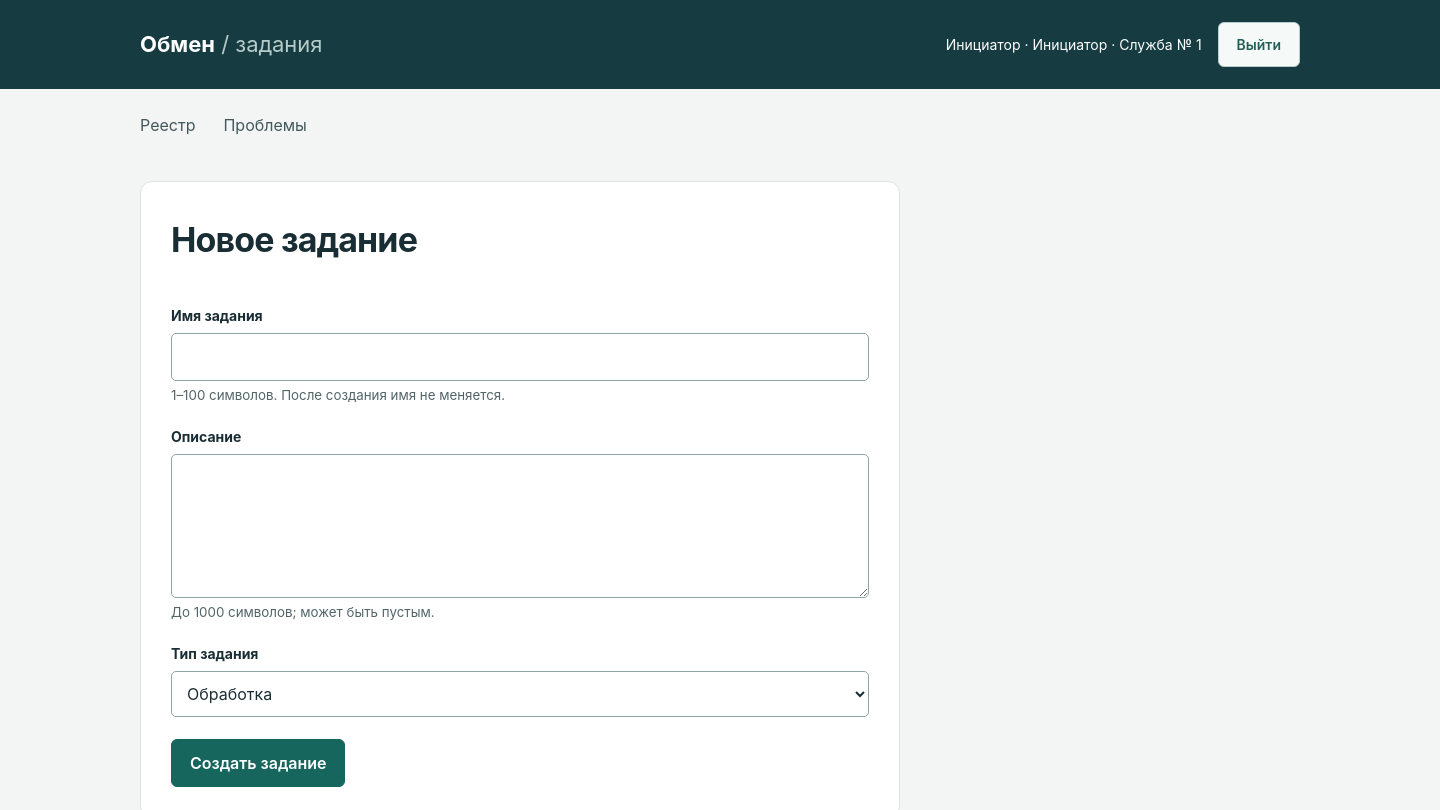
Scenario: создание после потери ответа повторяет сохранённый запрос и открывает подтверждённую карточку
Type "Задание-1" into the field labelled "Имя задания". click: (520, 357)
box: x1=171 y1=333 x2=869 y2=381
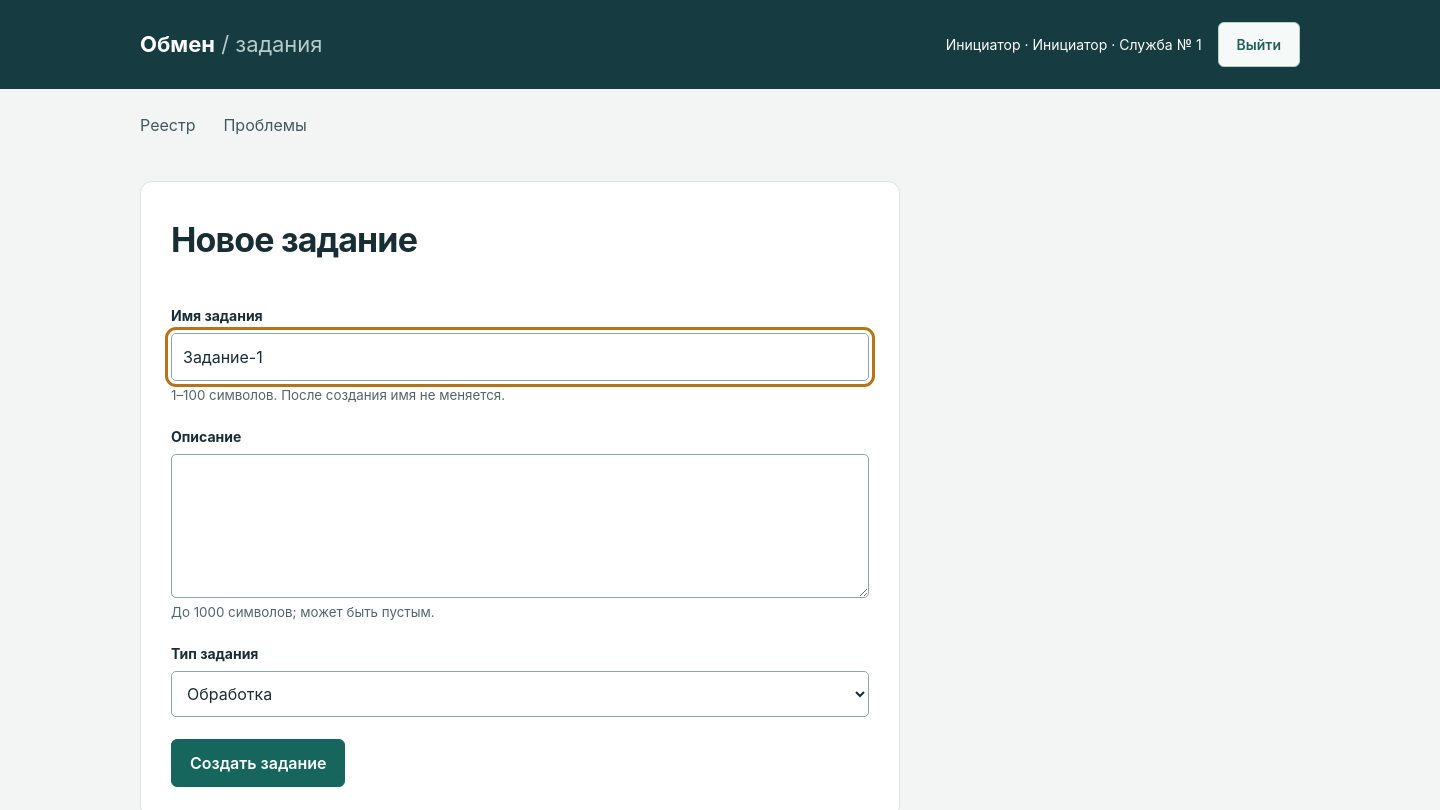
Click the button "Создать задание". click: (258, 763)
box: x1=171 y1=739 x2=346 y2=787
(page scrolled)
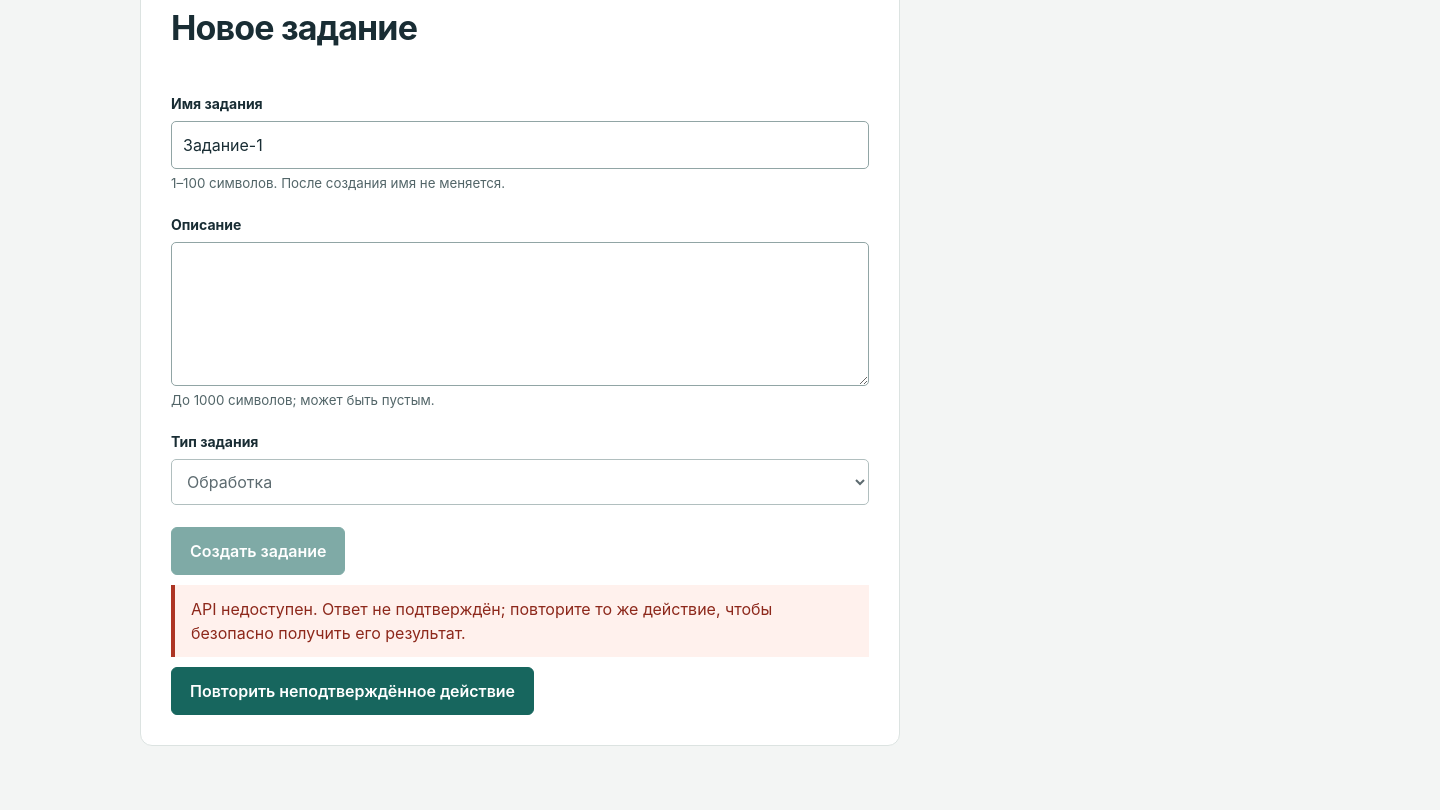
Click the button "Повторить неподтверждённое действие". click: (353, 691)
box: x1=171 y1=667 x2=534 y2=715
(page scrolled)
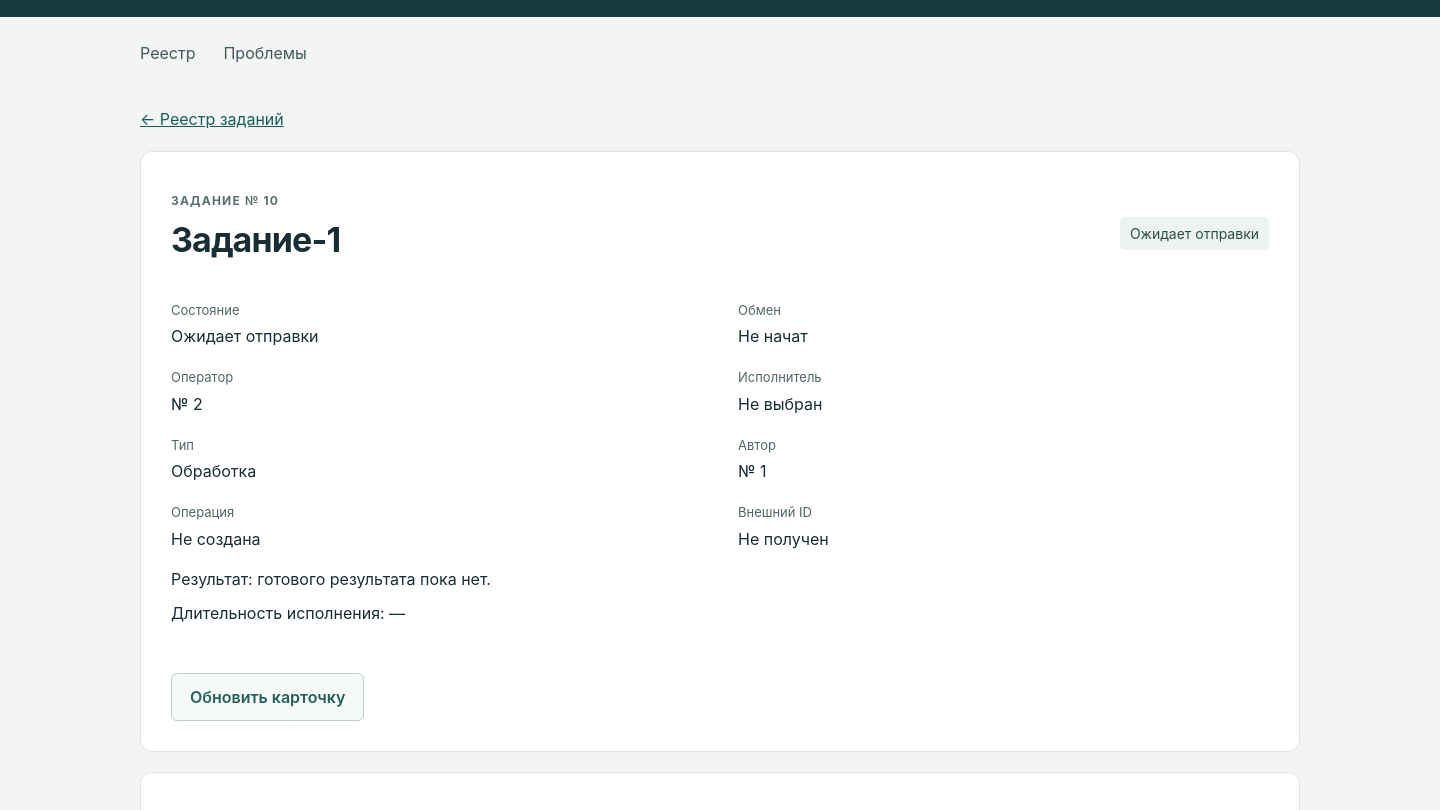
Check: the heading "Задание-1" is shown, box x1=171 y1=220 x2=340 y2=261
